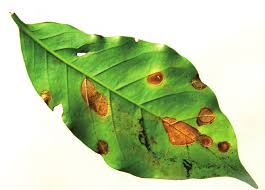ojo de gallo: (57, 61, 233, 154)
